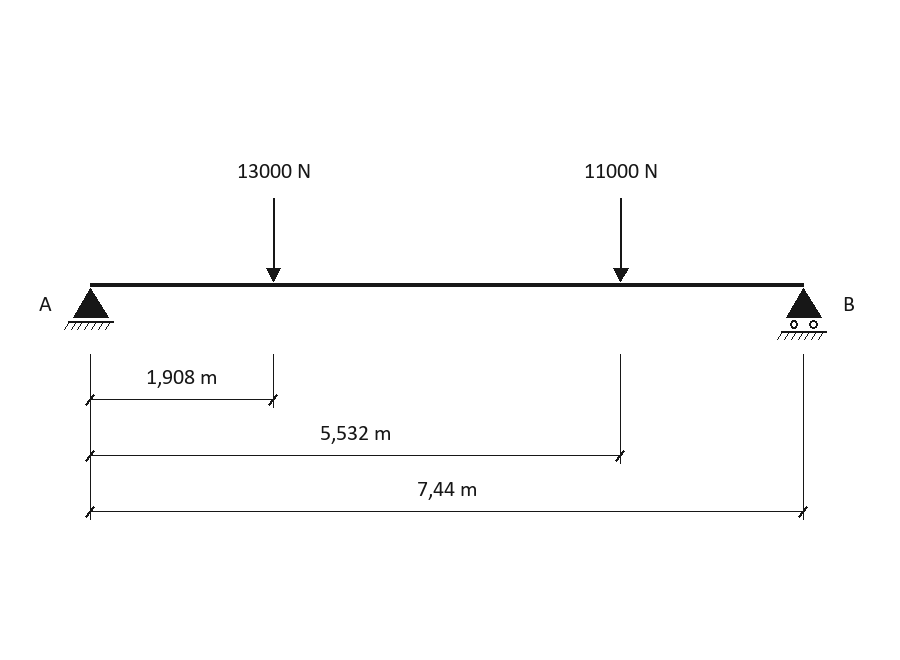pin_support: (64, 288, 114, 330)
point_load: (613, 198, 629, 282), (266, 198, 281, 282)
roller_support: (777, 288, 827, 340)
